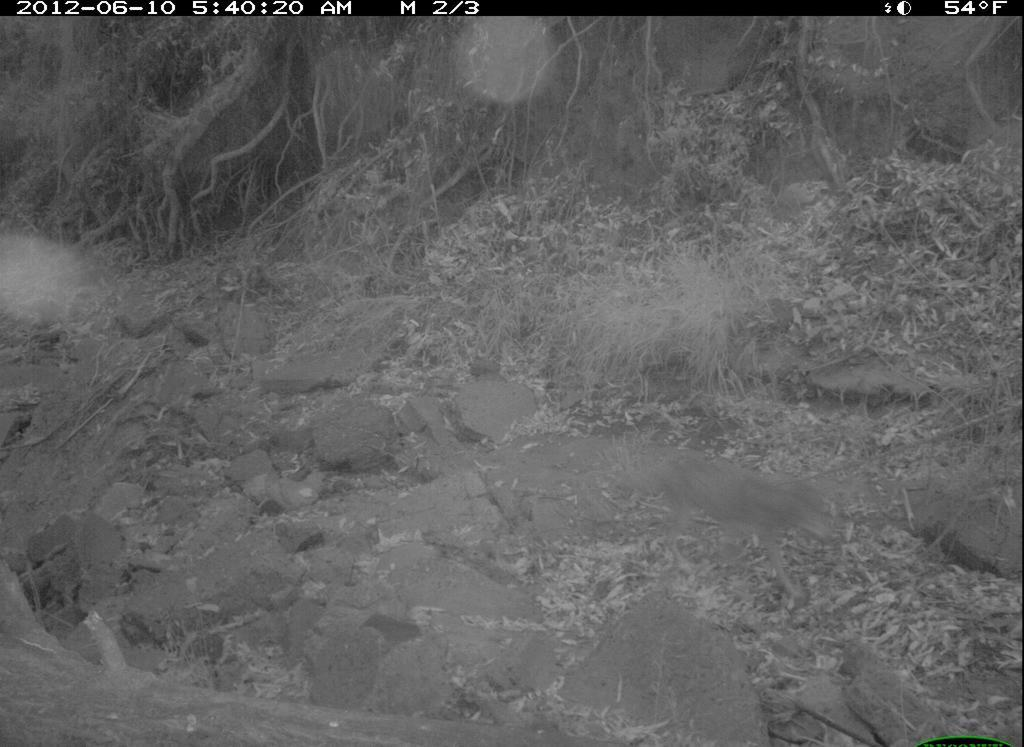coyote: (601, 429, 835, 604)
